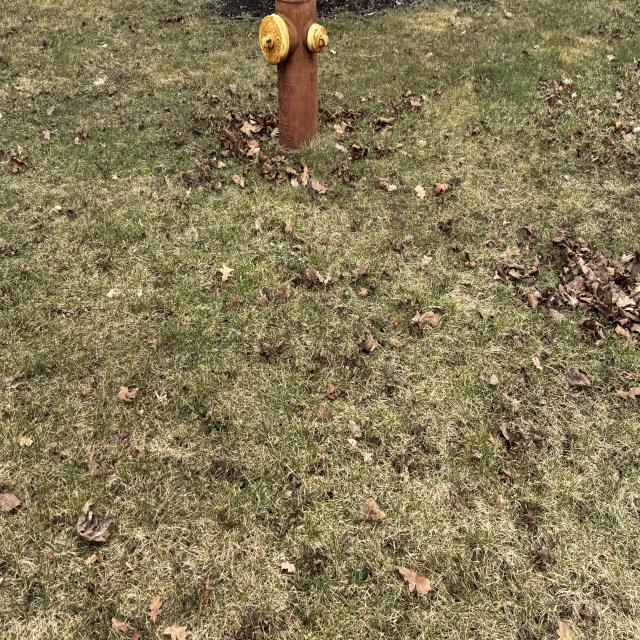Fire hydrant: (258, 1, 332, 149)
